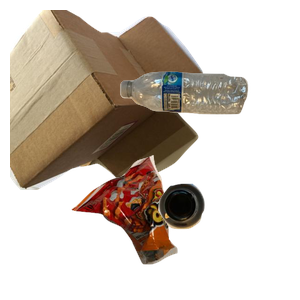cardboard: (10, 10, 206, 190)
glass: (156, 181, 300, 300)
plastic: (118, 69, 300, 176)
trash: (69, 153, 239, 300)
